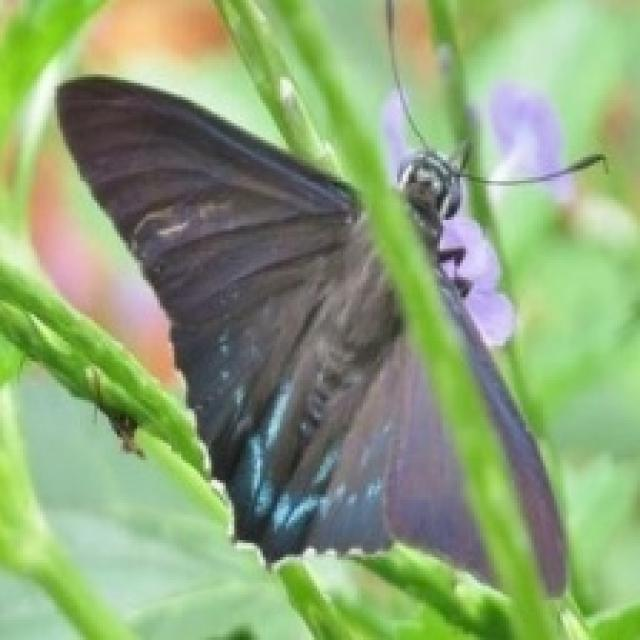butterfly: (51, 0, 608, 600)
